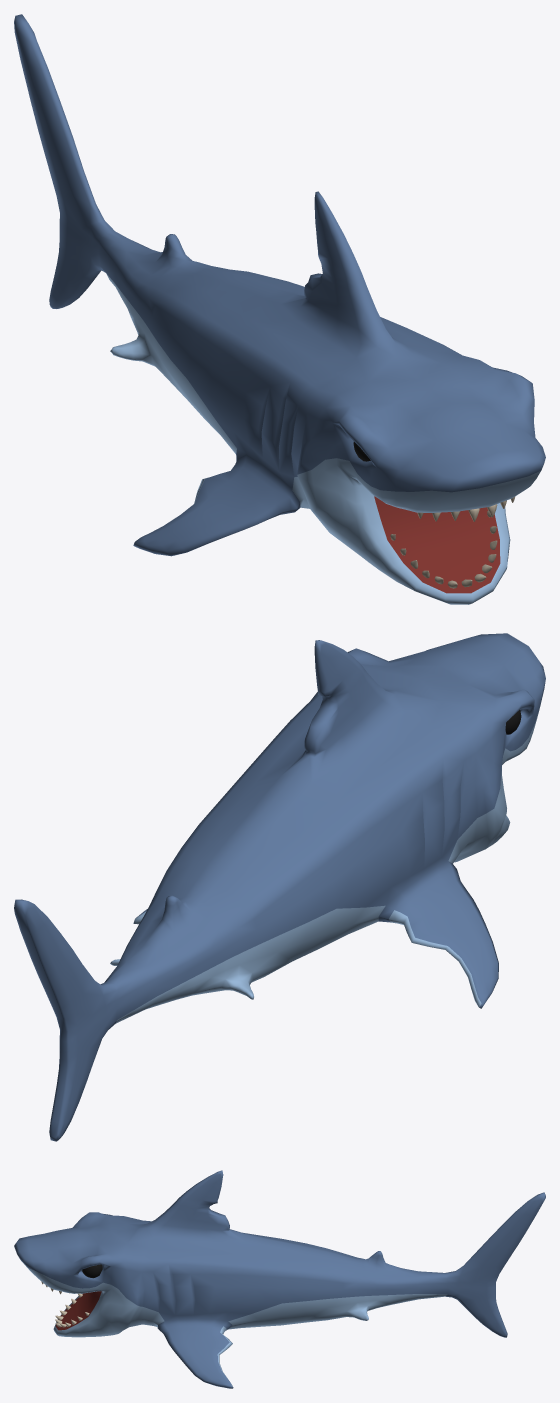
File: model-shark.glb
3 views of the same model, one above another, from view 1: azimuth 30°, elevation 25°; view 2: azimuth 150°, elevation 25°; view 3: azimuth 270°, elevation 25° (orthographic). The views are drawn at different scales.
Visible parts, largest first — view 1: Shark, Shark pieces; view 2: Shark; view 3: Shark, Shark pieces.
Boxes of the visible parts, box(x1,y1,x2,y2) form: Shark: box(14, 14, 545, 604); Shark pieces: box(353, 442, 515, 588); Shark: box(14, 633, 545, 1141); Shark: box(14, 1170, 545, 1388); Shark pieces: box(41, 1264, 102, 1327).
Size of the model in its own units: 2.3 by 2.01 by 5.61.
Materials: 1 (1 with a texture image).
